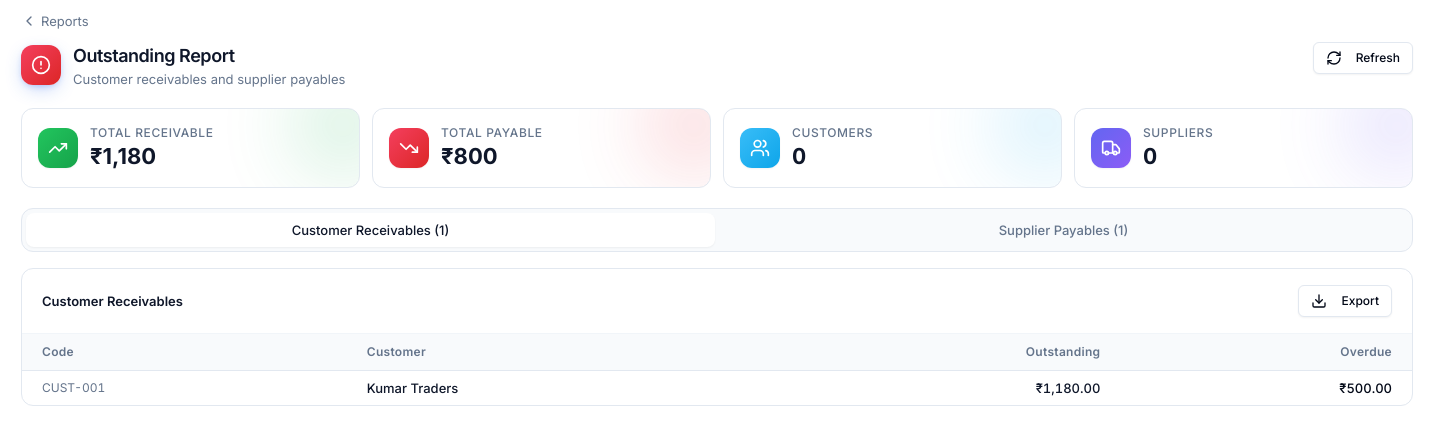
OutstandingReportView › switches to the supplier payables tab
Click the tab "Supplier Payables (1)": [1064, 230] box [719, 213, 1408, 247]
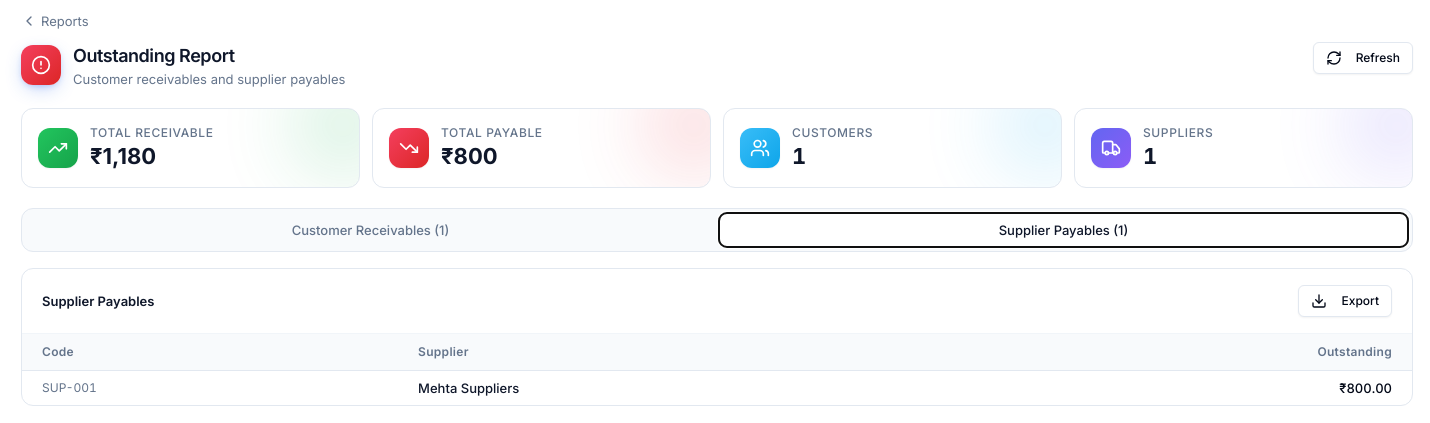
Expected: the text "Mehta Suppliers" is shown, [398, 370, 958, 404]
Expected: the table named "supplier payables" is shown, [22, 334, 1412, 404]
Expected: the text "Kumar Traders" is gone
